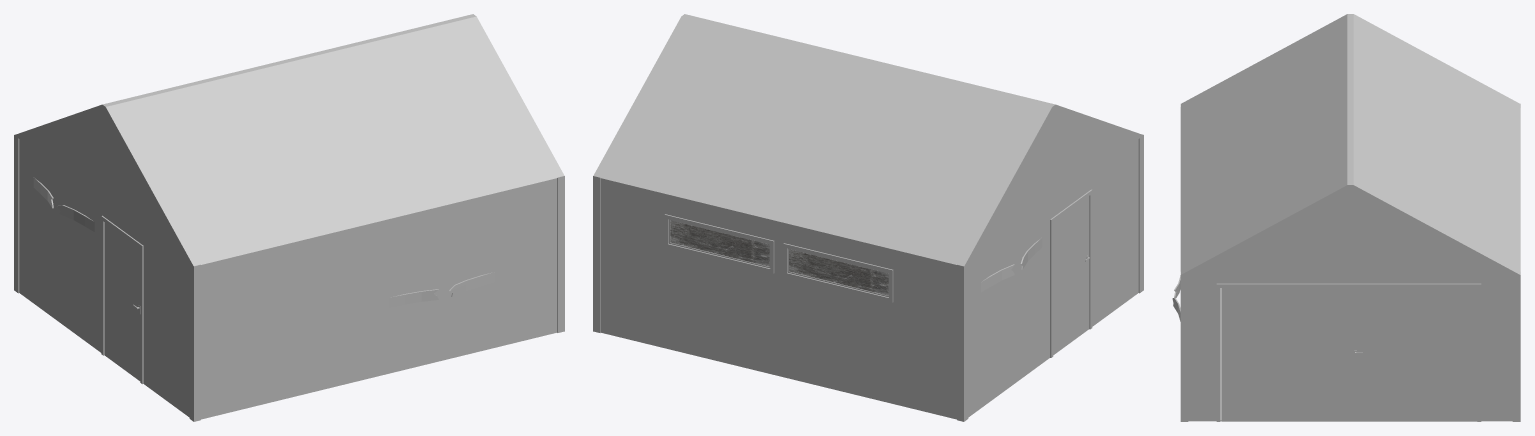
File: Suburbs_garage2.fbx
3 views of the same model, side by side, from view 1: azimuth 30°, elevation 25°; view 2: azimuth 150°, elevation 25°; view 3: azimuth 270°, elevation 25° (orthographic). The views are drawn at different scales.
Visible parts, largest first — view 1: Garage2, Plane.499, Cube.1803; view 2: Plane.499, Garage2, Cube.1803, Plane.571, Plane.568; view 3: Plane.499, Cube.011, Cube.013, Garage2.
Part boxes in pixels (x1,y1,x2,y2): Garage2: (14,134,564,421); Plane.499: (15,14,564,265); Cube.1803: (104,222,140,379); Plane.499: (593,14,1142,265); Garage2: (593,134,1143,421); Cube.1803: (1053,196,1089,353); Plane.571: (789,249,888,295); Plane.568: (670,220,769,266); Plane.499: (1180,14,1520,275); Cube.011: (1221,288,1350,421); Cube.013: (1350,288,1477,421); Garage2: (1172,103,1520,421).
Size of the model in its own units: 640 by 403 by 537.
